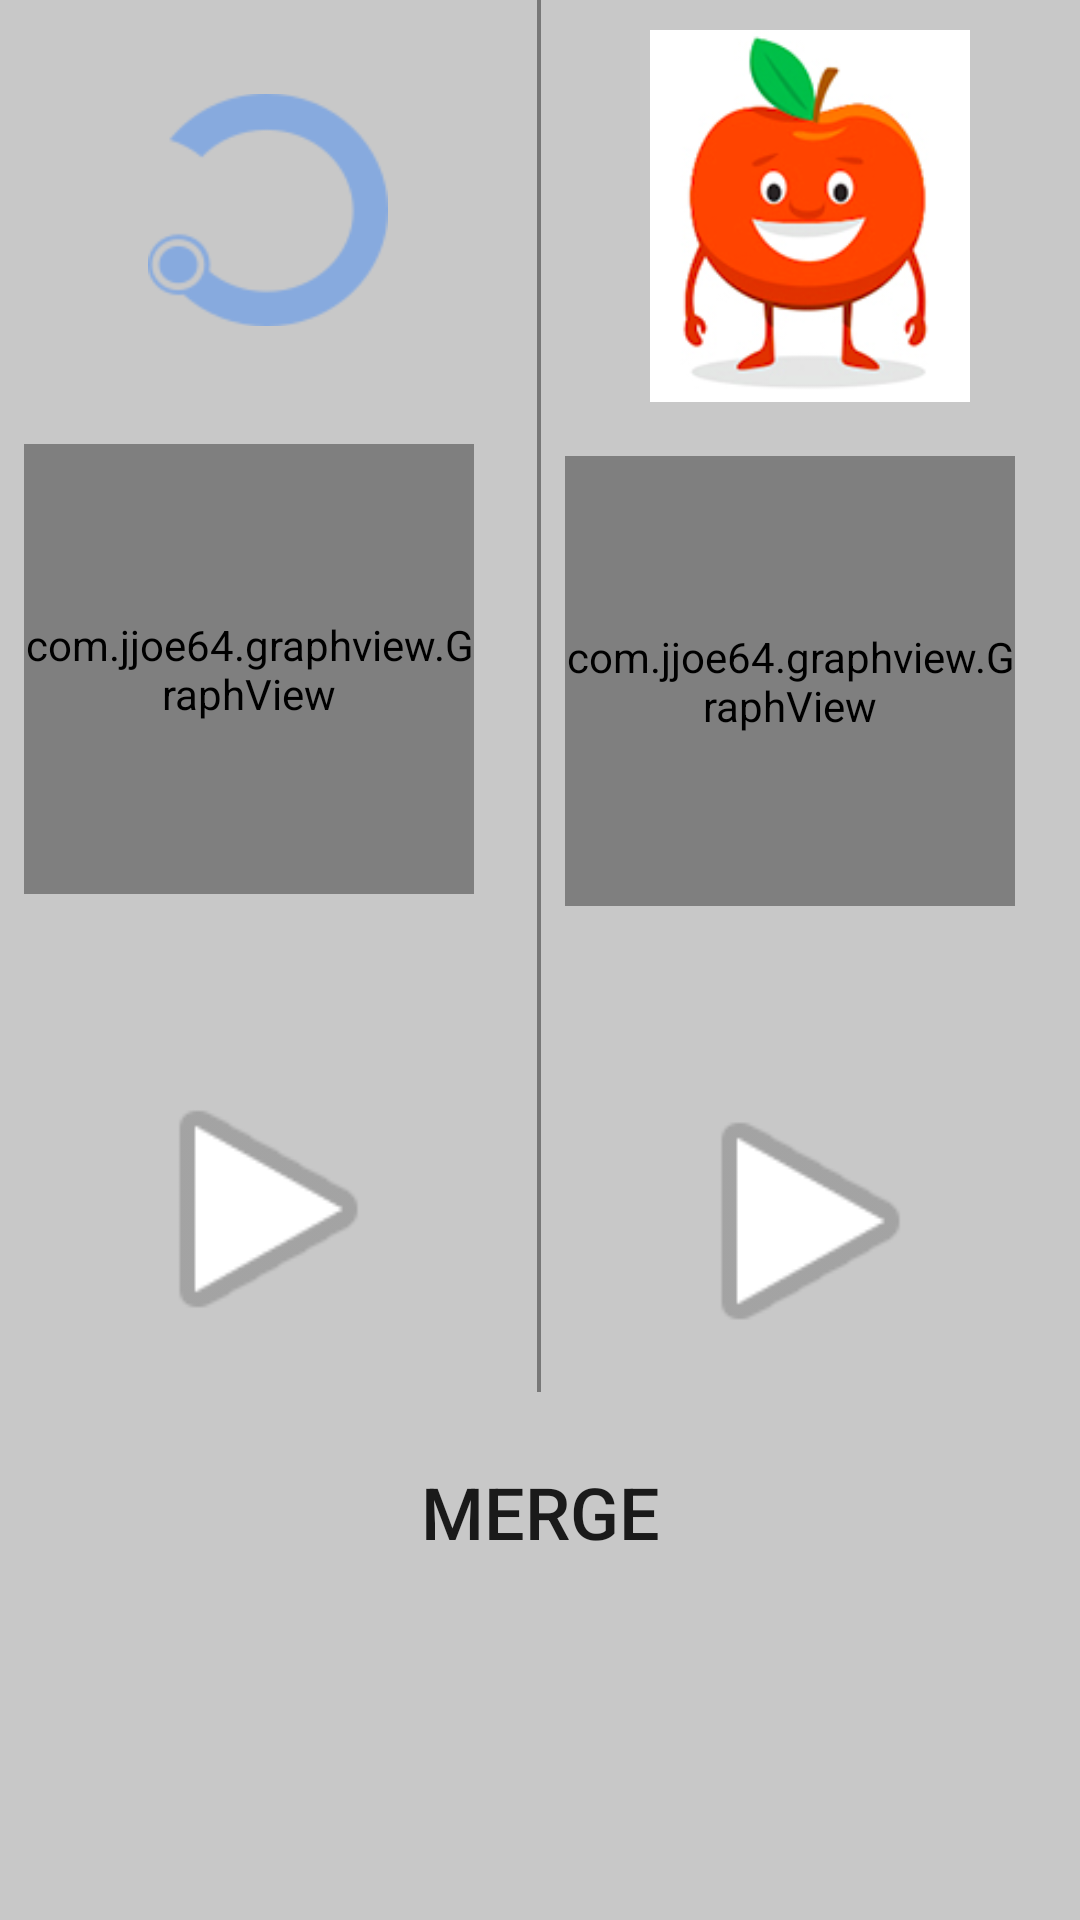

Named icons in this screenshot (1080px x 1920px) and their bounding boxes, (x1, y1, x2, y2):
noon circle: (148, 94, 388, 326)
play: (180, 1112, 357, 1307), (722, 1124, 899, 1319)
